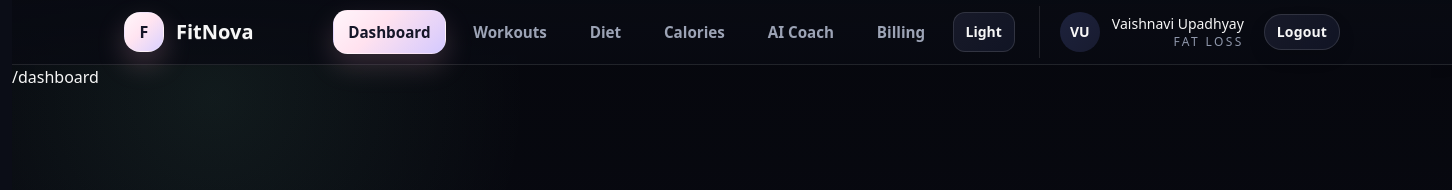
Scenario: Header › navigates to profile when the authenticated user block is clicked
Click the text "Vaishnavi Upadhyay". click: (1178, 24)
box: [1112,14,1244,34]
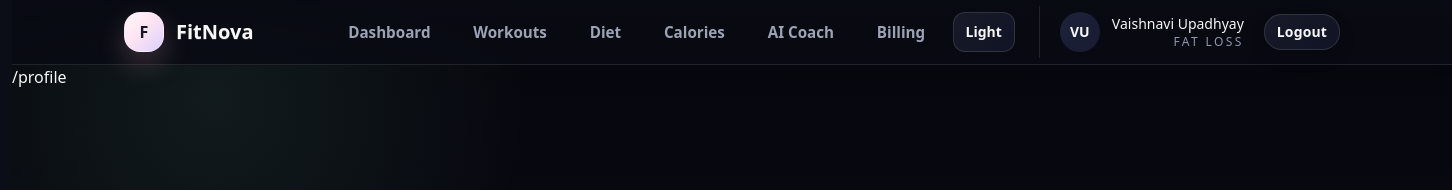
Expected: the text "/profile" is shown, [12,66,66,88]
